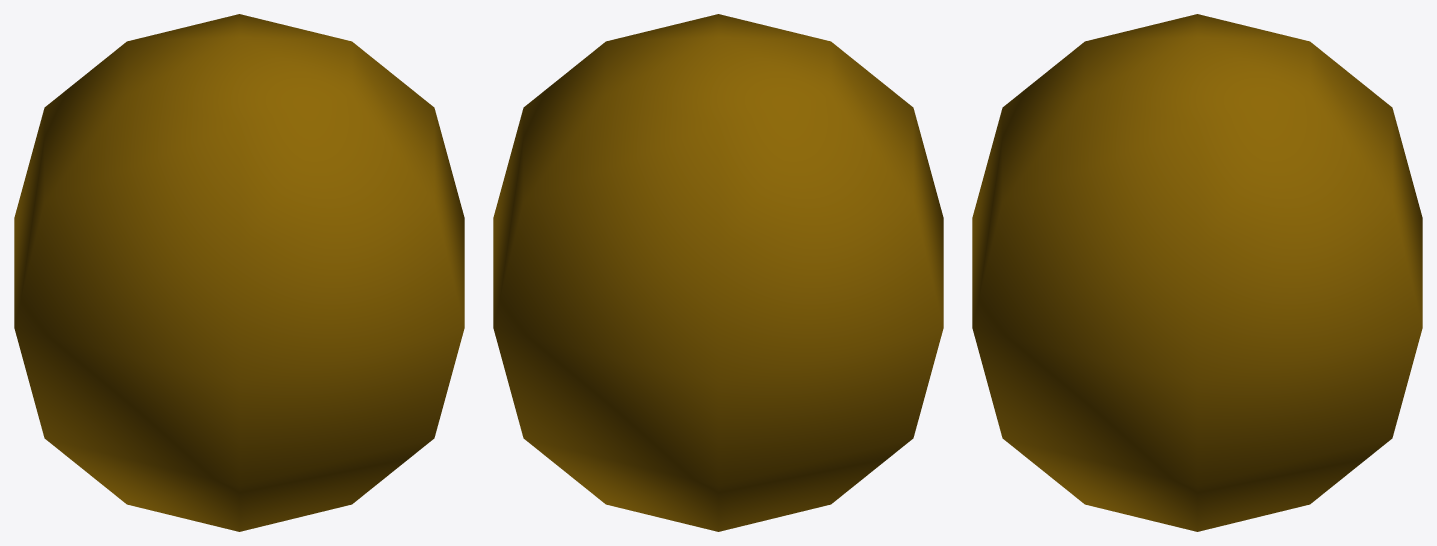
Rendered from small_flower_bud.fbx.
3 renders of one model, left to right at view 1: azimuth 30°, elevation 25°; view 2: azimuth 150°, elevation 25°; view 3: azimuth 270°, elevation 25°, orthographic.
Parts seen in each view (by area): view 1: bud1; view 2: bud1; view 3: bud1.
Boxes of the visible parts, x1,y1,x2,y2 form: bud1: (14,14,464,531); bud1: (493,14,943,531); bud1: (972,14,1422,531).
Size of the model in its own units: 68.67 by 68.67 by 59.47.
